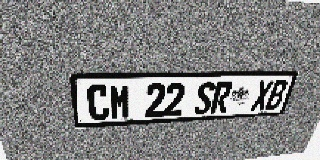2: (164, 82, 186, 116), (145, 83, 166, 118)
B: (264, 80, 289, 110)
C: (86, 84, 110, 121)
M: (109, 84, 130, 120)
R: (210, 81, 233, 114)
S: (193, 82, 216, 115)
X: (250, 80, 274, 111)
